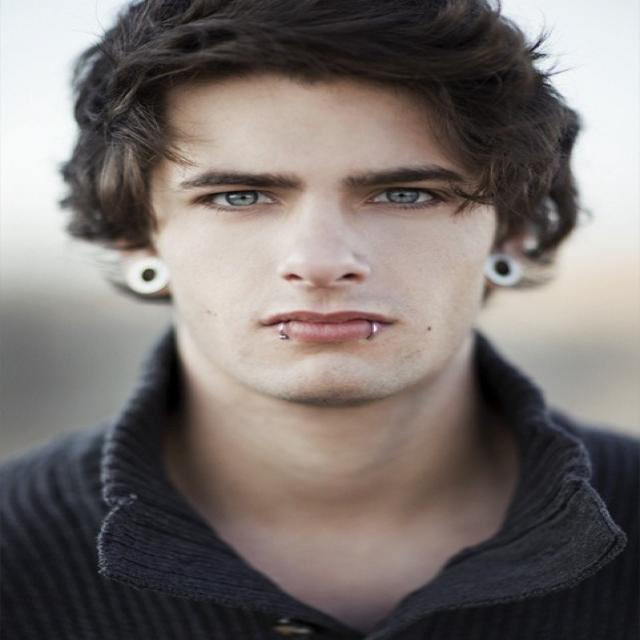earlobe: (126, 257, 168, 296), (488, 253, 521, 290)
eye: (203, 190, 277, 210), (368, 186, 438, 207)
nose: (273, 270, 373, 313)
